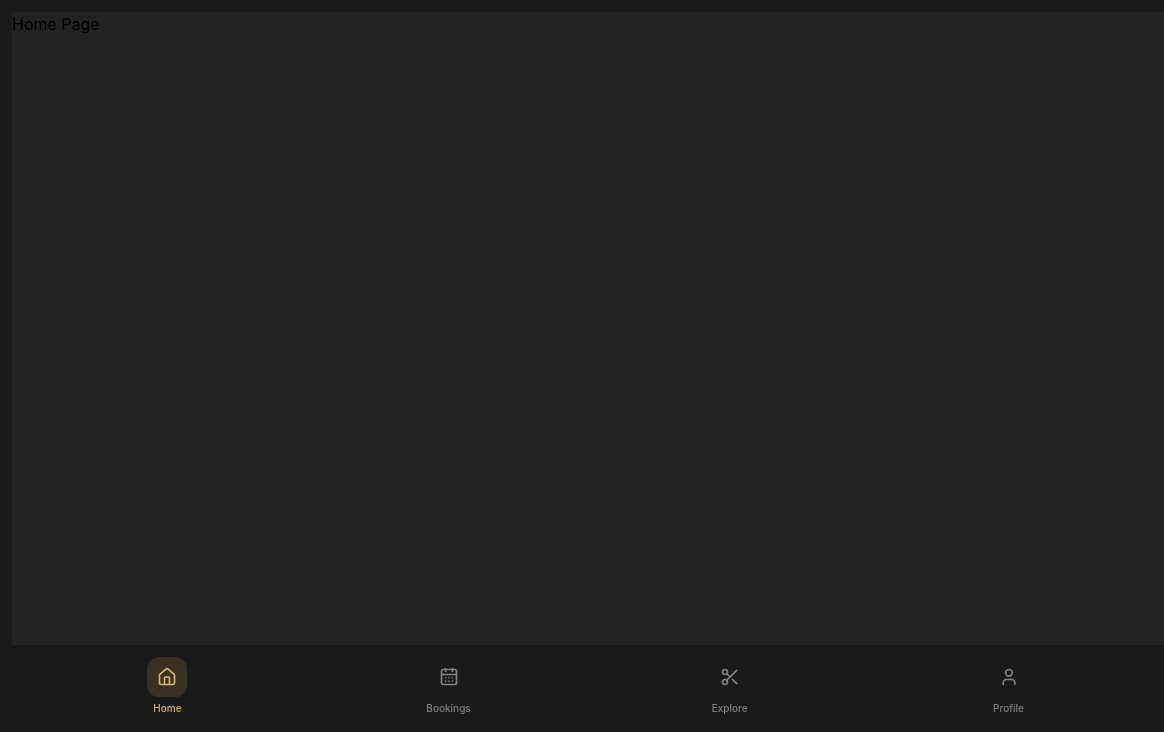
Test case: BottomNav › navigates to the correct route when a tab is clicked
Click the button "Explore" at (730, 686), box [710,657,750,716]
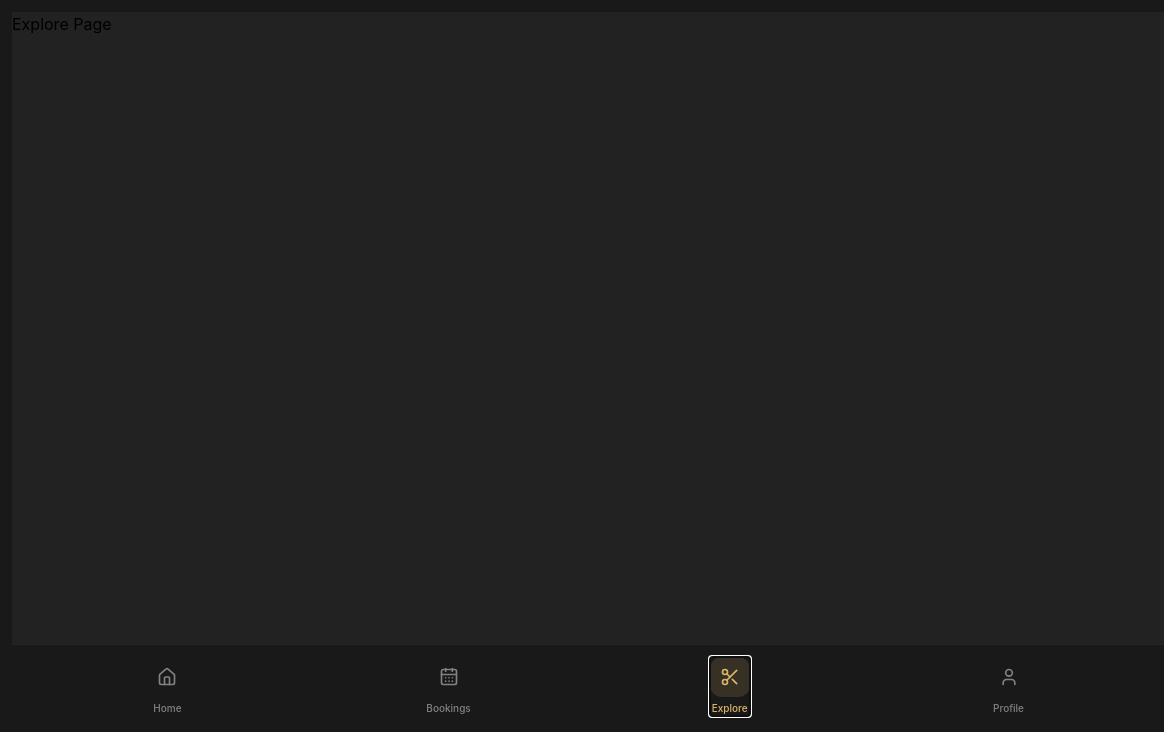
Expected: the text "Explore Page" is shown, [12,14,112,34]
